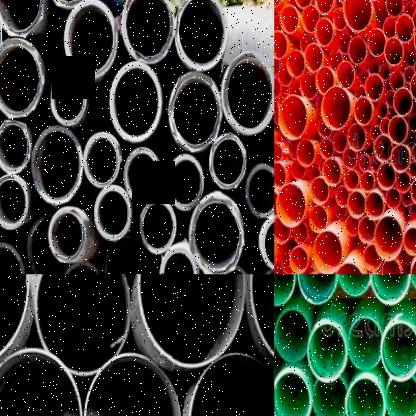pipe: (138, 274, 245, 368), (36, 274, 132, 376), (84, 352, 182, 416), (0, 347, 83, 416), (188, 351, 274, 416), (190, 192, 245, 274), (222, 52, 274, 134), (64, 0, 117, 80), (168, 72, 222, 150), (109, 62, 162, 141), (32, 127, 83, 204), (175, 0, 229, 70), (0, 38, 43, 116), (121, 0, 174, 62), (0, 274, 30, 368), (307, 323, 347, 383), (208, 133, 247, 189), (47, 208, 86, 263), (124, 147, 161, 203), (381, 322, 416, 381), (50, 72, 88, 126), (167, 154, 203, 210), (102, 236, 154, 274), (84, 134, 120, 188), (95, 186, 131, 240), (140, 199, 176, 253), (275, 310, 310, 362), (348, 317, 382, 370), (0, 120, 31, 173), (344, 376, 385, 416), (0, 0, 44, 37), (274, 371, 310, 416), (0, 175, 28, 230), (245, 164, 274, 216), (278, 94, 308, 140), (159, 240, 199, 274), (312, 376, 346, 416), (369, 274, 411, 306), (321, 86, 351, 130), (312, 230, 342, 274), (374, 215, 402, 261), (277, 184, 306, 227), (386, 376, 416, 416), (298, 274, 337, 304), (0, 240, 29, 274), (342, 0, 372, 31), (338, 274, 372, 296), (261, 215, 274, 271), (274, 274, 296, 306), (63, 256, 99, 274), (280, 5, 300, 34), (314, 17, 334, 46), (367, 28, 387, 57), (384, 38, 404, 67), (393, 87, 413, 116), (308, 204, 327, 234), (364, 74, 384, 102), (296, 139, 316, 167), (363, 244, 383, 272), (395, 14, 414, 43), (304, 43, 323, 72), (365, 192, 384, 221), (348, 36, 367, 64), (388, 116, 407, 144), (347, 124, 366, 152), (391, 145, 410, 173), (322, 159, 341, 187), (377, 162, 396, 190), (287, 49, 305, 78), (354, 96, 372, 125), (336, 61, 355, 88), (374, 135, 393, 162), (316, 66, 334, 94), (300, 72, 318, 100), (347, 190, 365, 218), (358, 216, 376, 244), (290, 247, 308, 274), (302, 5, 319, 33), (274, 218, 290, 244), (274, 30, 288, 59), (403, 226, 416, 255), (359, 171, 375, 193), (333, 131, 348, 154), (335, 185, 350, 208), (45, 0, 94, 7), (385, 0, 404, 18), (333, 7, 347, 31), (342, 148, 358, 169), (274, 162, 286, 190), (385, 188, 401, 209), (337, 32, 352, 54), (328, 49, 343, 71), (344, 169, 359, 191), (396, 172, 411, 194), (333, 263, 363, 274), (382, 17, 397, 38), (390, 70, 405, 91), (291, 159, 306, 180), (293, 223, 308, 244), (319, 139, 334, 159), (278, 65, 292, 86), (346, 215, 359, 236), (280, 253, 293, 274), (318, 119, 332, 138), (382, 260, 401, 274), (300, 34, 315, 51), (379, 63, 391, 82), (403, 66, 416, 83), (376, 101, 389, 118), (0, 0, 3, 73), (289, 79, 301, 96), (277, 92, 289, 109), (369, 124, 381, 141), (404, 50, 416, 66), (274, 76, 282, 100), (359, 69, 370, 86), (359, 154, 370, 171), (404, 2, 416, 17), (370, 156, 381, 172), (407, 112, 416, 131), (385, 91, 395, 108), (402, 190, 412, 207), (368, 59, 379, 74), (309, 166, 320, 181), (410, 73, 416, 100), (410, 178, 416, 205), (380, 118, 390, 134), (335, 205, 346, 219), (274, 142, 282, 161), (293, 0, 312, 8), (275, 264, 288, 274), (274, 56, 280, 76), (409, 161, 416, 178), (274, 190, 278, 218), (401, 264, 411, 274), (410, 204, 416, 219), (412, 8, 416, 30), (413, 26, 416, 55), (411, 144, 416, 160), (274, 0, 283, 7)
